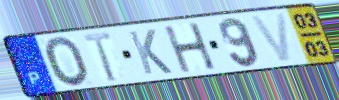9: (218, 16, 262, 69)
H: (161, 21, 219, 75)
K: (126, 28, 175, 76)
O: (43, 35, 92, 89)
T: (80, 30, 118, 84)
V: (248, 10, 294, 64)
